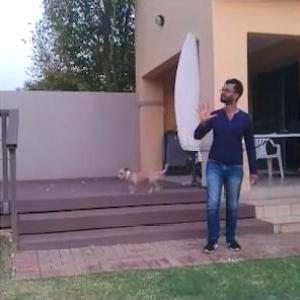follow_hand: (189, 94, 219, 125)
